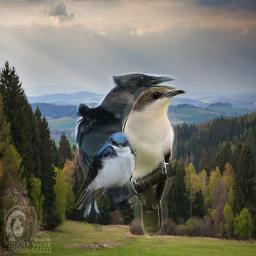Crow: (75, 68, 178, 232)
Cuckoo: (122, 87, 186, 239)
Swallow: (73, 131, 137, 210)
